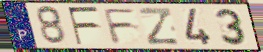3: (213, 7, 248, 47)
4: (184, 7, 213, 47)
8: (35, 5, 67, 47)
F: (66, 6, 101, 47), (101, 8, 138, 46)
Z: (137, 6, 182, 46)
